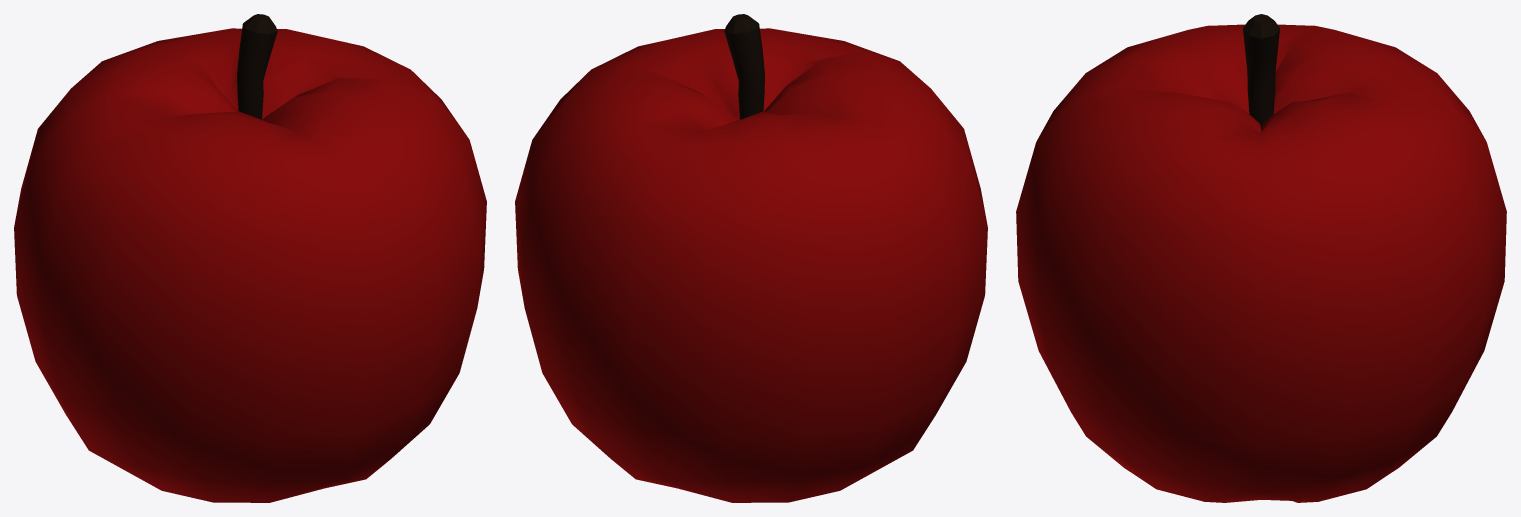
Rendered from Apple_1.FBX.
The picture shows the model from 3 angles, left to right: view 1: azimuth 30°, elevation 25°; view 2: azimuth 150°, elevation 25°; view 3: azimuth 270°, elevation 25°; orthographic projection. The views are drawn at different scales.
Visible parts, largest first — view 1: Apple_1; view 2: Apple_1; view 3: Apple_1.
Part boxes in pixels (x1=…): Apple_1: x1=14, y1=14, x2=486, y2=502; Apple_1: x1=515, y1=14, x2=987, y2=502; Apple_1: x1=1016, y1=14, x2=1506, y2=502.
Size of the model in its own units: 1119 by 1119 by 1136.
